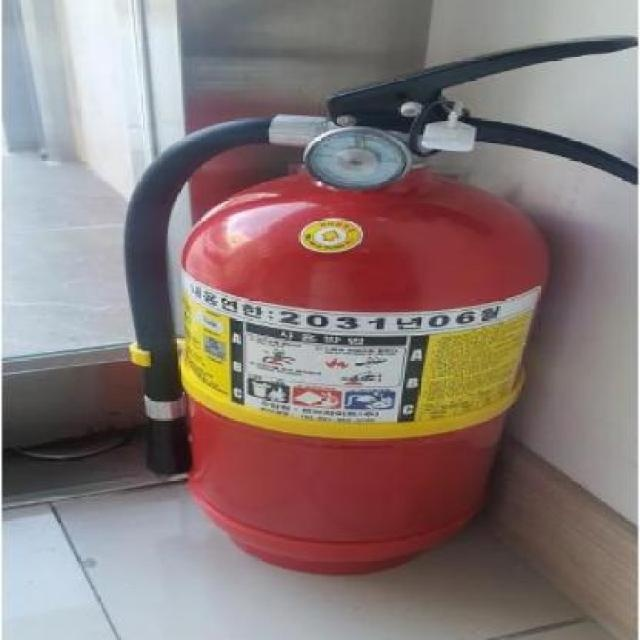fire extinguisher: (121, 33, 640, 575)
